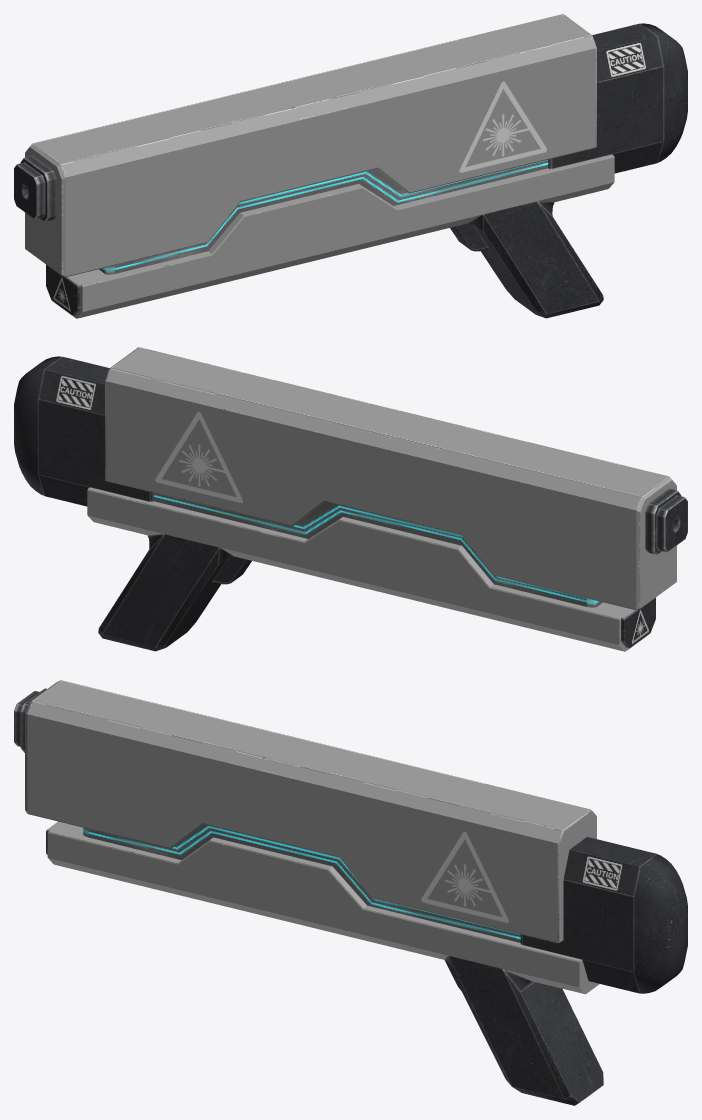
Rendered from kinetic_gun.fbx.
3 renders of one model, top to bottom at view 1: azimuth 30°, elevation 25°; view 2: azimuth 150°, elevation 25°; view 3: azimuth 330°, elevation 25°, orthographic.
Visible parts, largest first — view 1: gunA; view 2: gunA; view 3: gunA.
Boxes of the visible parts, left/top/right/bottom form: gunA: left=14, top=14, right=687, bottom=318; gunA: left=14, top=347, right=687, bottom=651; gunA: left=14, top=680, right=687, bottom=1105.
Bounding box in the file's own units: 2 × 0.7969 × 0.201.
1 material, 1 textured.
